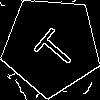T: (26, 21, 79, 74)
